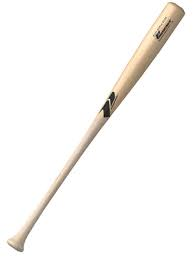baseball bat: (7, 1, 185, 251)
